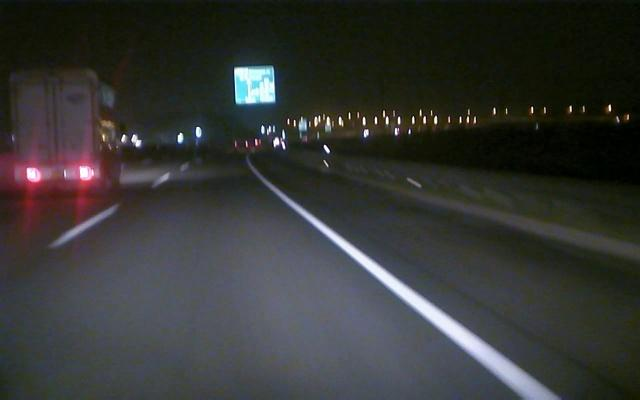lane: (270, 188, 564, 399), (48, 203, 121, 247)
